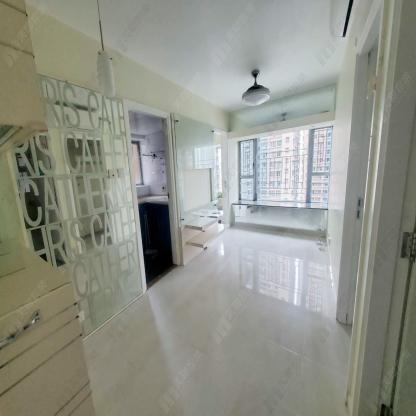Windowsill: (227, 110, 336, 211)
